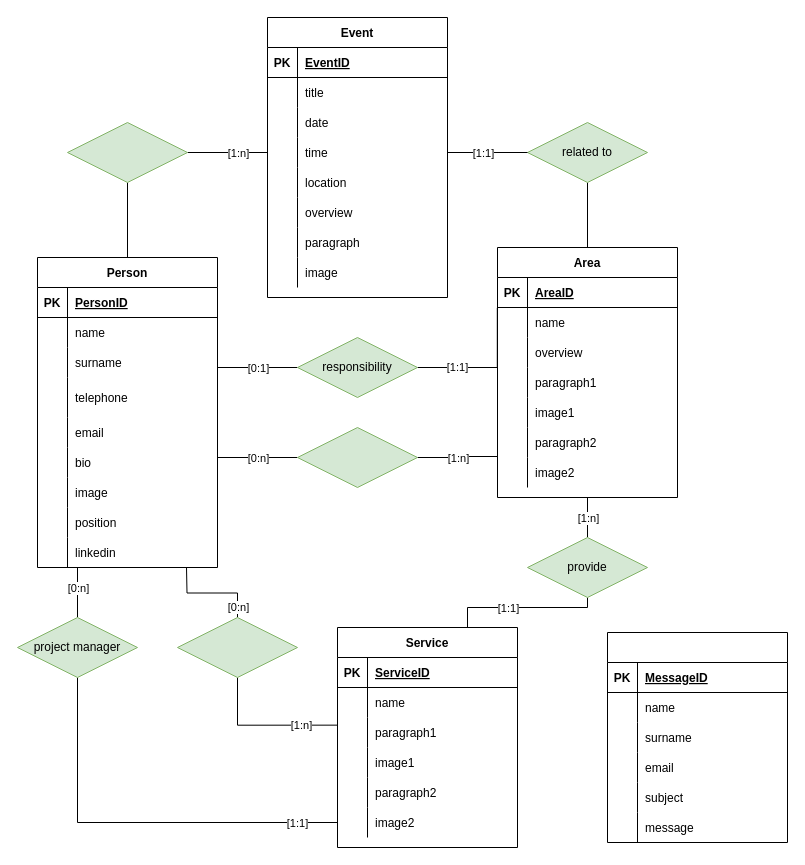
The diagram is 805 pixels wide and 865 high, and some of its shapes have lost their labels. The shapes that lost their labels are listed below. From the top down, each one's box as (x1, y1, x2, y2) in pixels, then its label:
(66, 122, 188, 182): hosted by
(296, 426, 418, 488): employee
(176, 616, 298, 678): assistance
(606, 632, 788, 842): Messages
